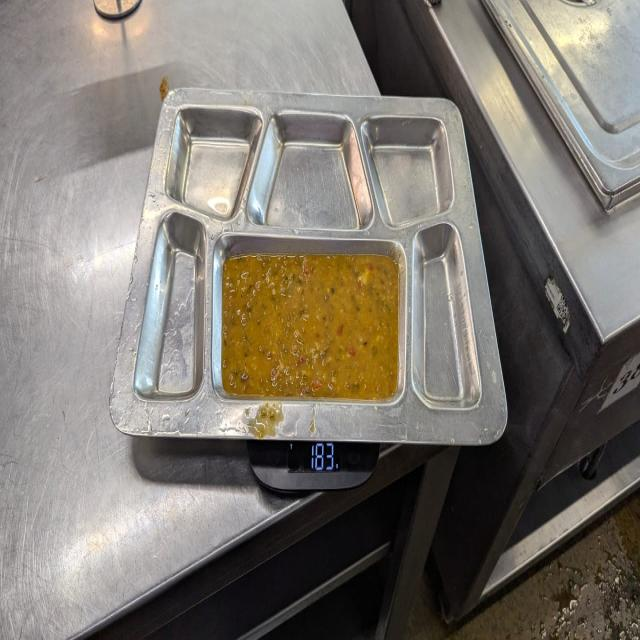Dal: (224, 253, 398, 394)
